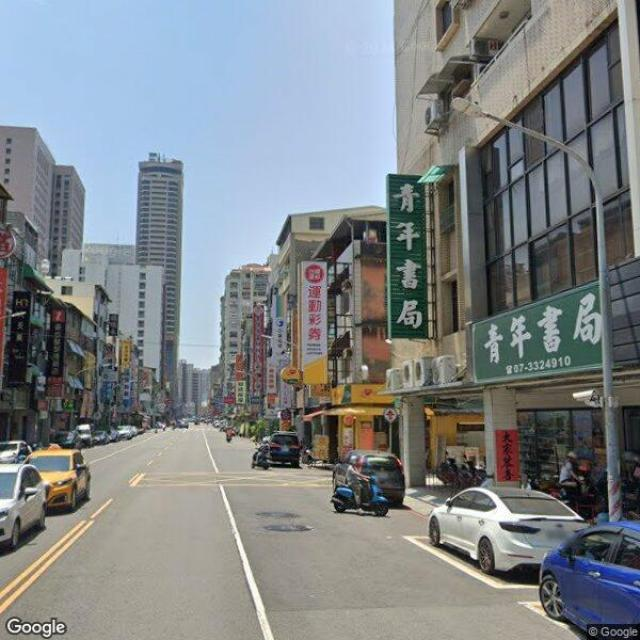Legalparking: (441, 474, 640, 640)
illegalparking: (320, 460, 444, 539), (244, 436, 360, 468)
